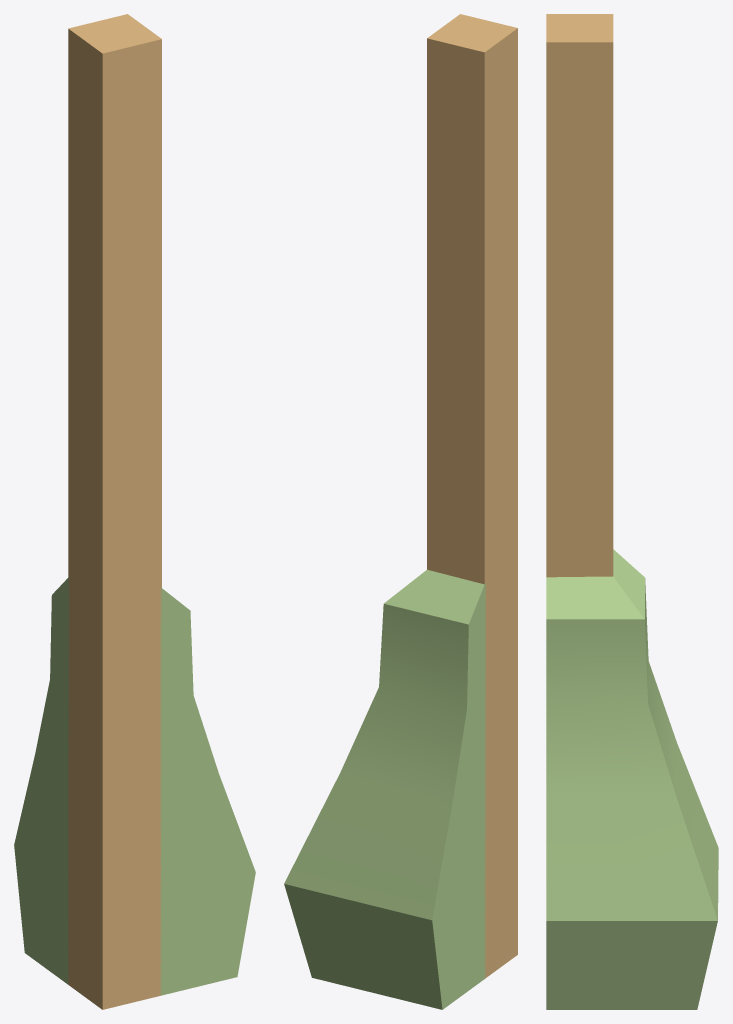
Rendered from room_wall_corner.fbx.
The picture shows the model from 3 angles, left to right: view 1: azimuth 30°, elevation 25°; view 2: azimuth 150°, elevation 25°; view 3: azimuth 270°, elevation 25°; orthographic projection. The views are drawn at different scales.
Parts seen in each view (by area): view 1: polySurface60, polySurface59; view 2: polySurface60, polySurface59; view 3: polySurface59, polySurface60.
Part boxes in pixels (box(x1,y1,x2,y2)): polySurface60: box(68, 14, 161, 1009); polySurface59: box(14, 577, 255, 995); polySurface60: box(427, 14, 517, 978); polySurface59: box(284, 569, 485, 1009); polySurface59: box(546, 549, 718, 1009); polySurface60: box(546, 14, 613, 577).
Bounding box in the file's own units: 0.8774 × 5.23 × 0.8772.
